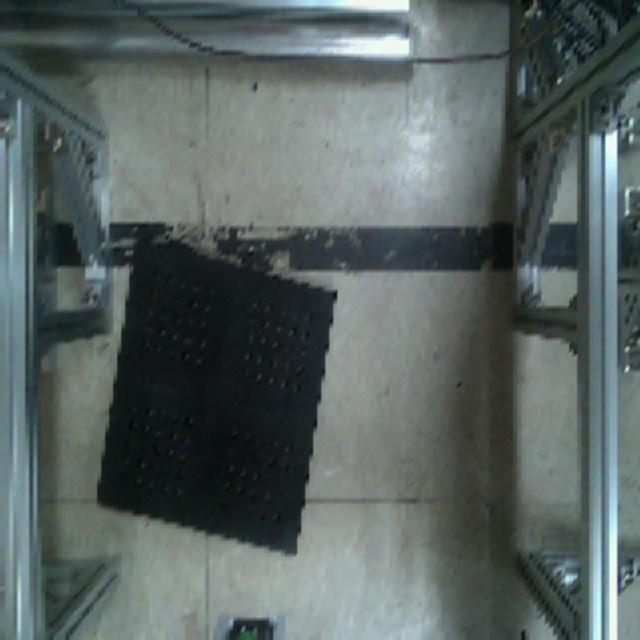pallet: (89, 238, 338, 562)
